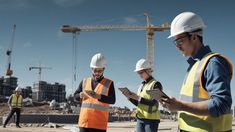hardhat: (169, 9, 205, 44), (89, 53, 111, 71), (134, 58, 156, 76), (10, 86, 24, 90)
person: (165, 6, 230, 130), (67, 49, 114, 131), (122, 53, 167, 131), (6, 85, 27, 130)
safety_vest: (178, 58, 224, 131), (81, 76, 108, 128), (139, 82, 163, 120), (12, 93, 20, 109)
